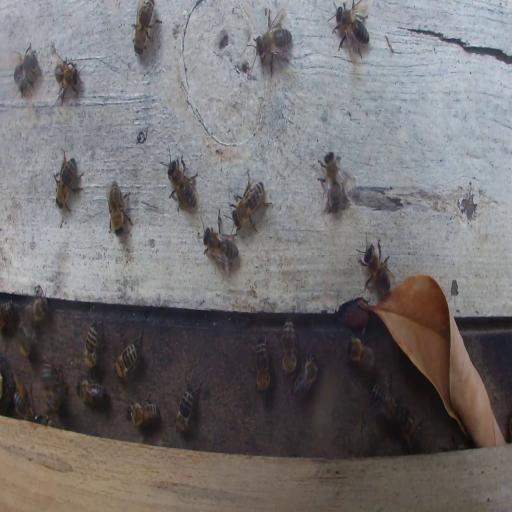bee: (252, 5, 293, 76), (328, 0, 372, 62), (200, 220, 239, 278), (316, 149, 350, 215), (230, 174, 268, 232), (165, 149, 198, 214), (52, 147, 84, 214), (357, 237, 394, 293), (12, 42, 42, 96), (113, 326, 142, 381), (174, 379, 202, 434), (106, 180, 132, 234), (132, 0, 157, 56), (54, 53, 81, 103), (370, 376, 399, 420), (291, 356, 319, 398), (127, 393, 159, 428), (22, 286, 48, 329), (346, 335, 376, 372), (251, 337, 271, 392), (42, 361, 63, 412), (400, 410, 423, 454), (280, 318, 297, 376), (76, 378, 106, 408), (12, 380, 32, 420), (84, 320, 99, 370), (19, 323, 36, 361), (1, 298, 14, 332), (33, 410, 56, 424)
